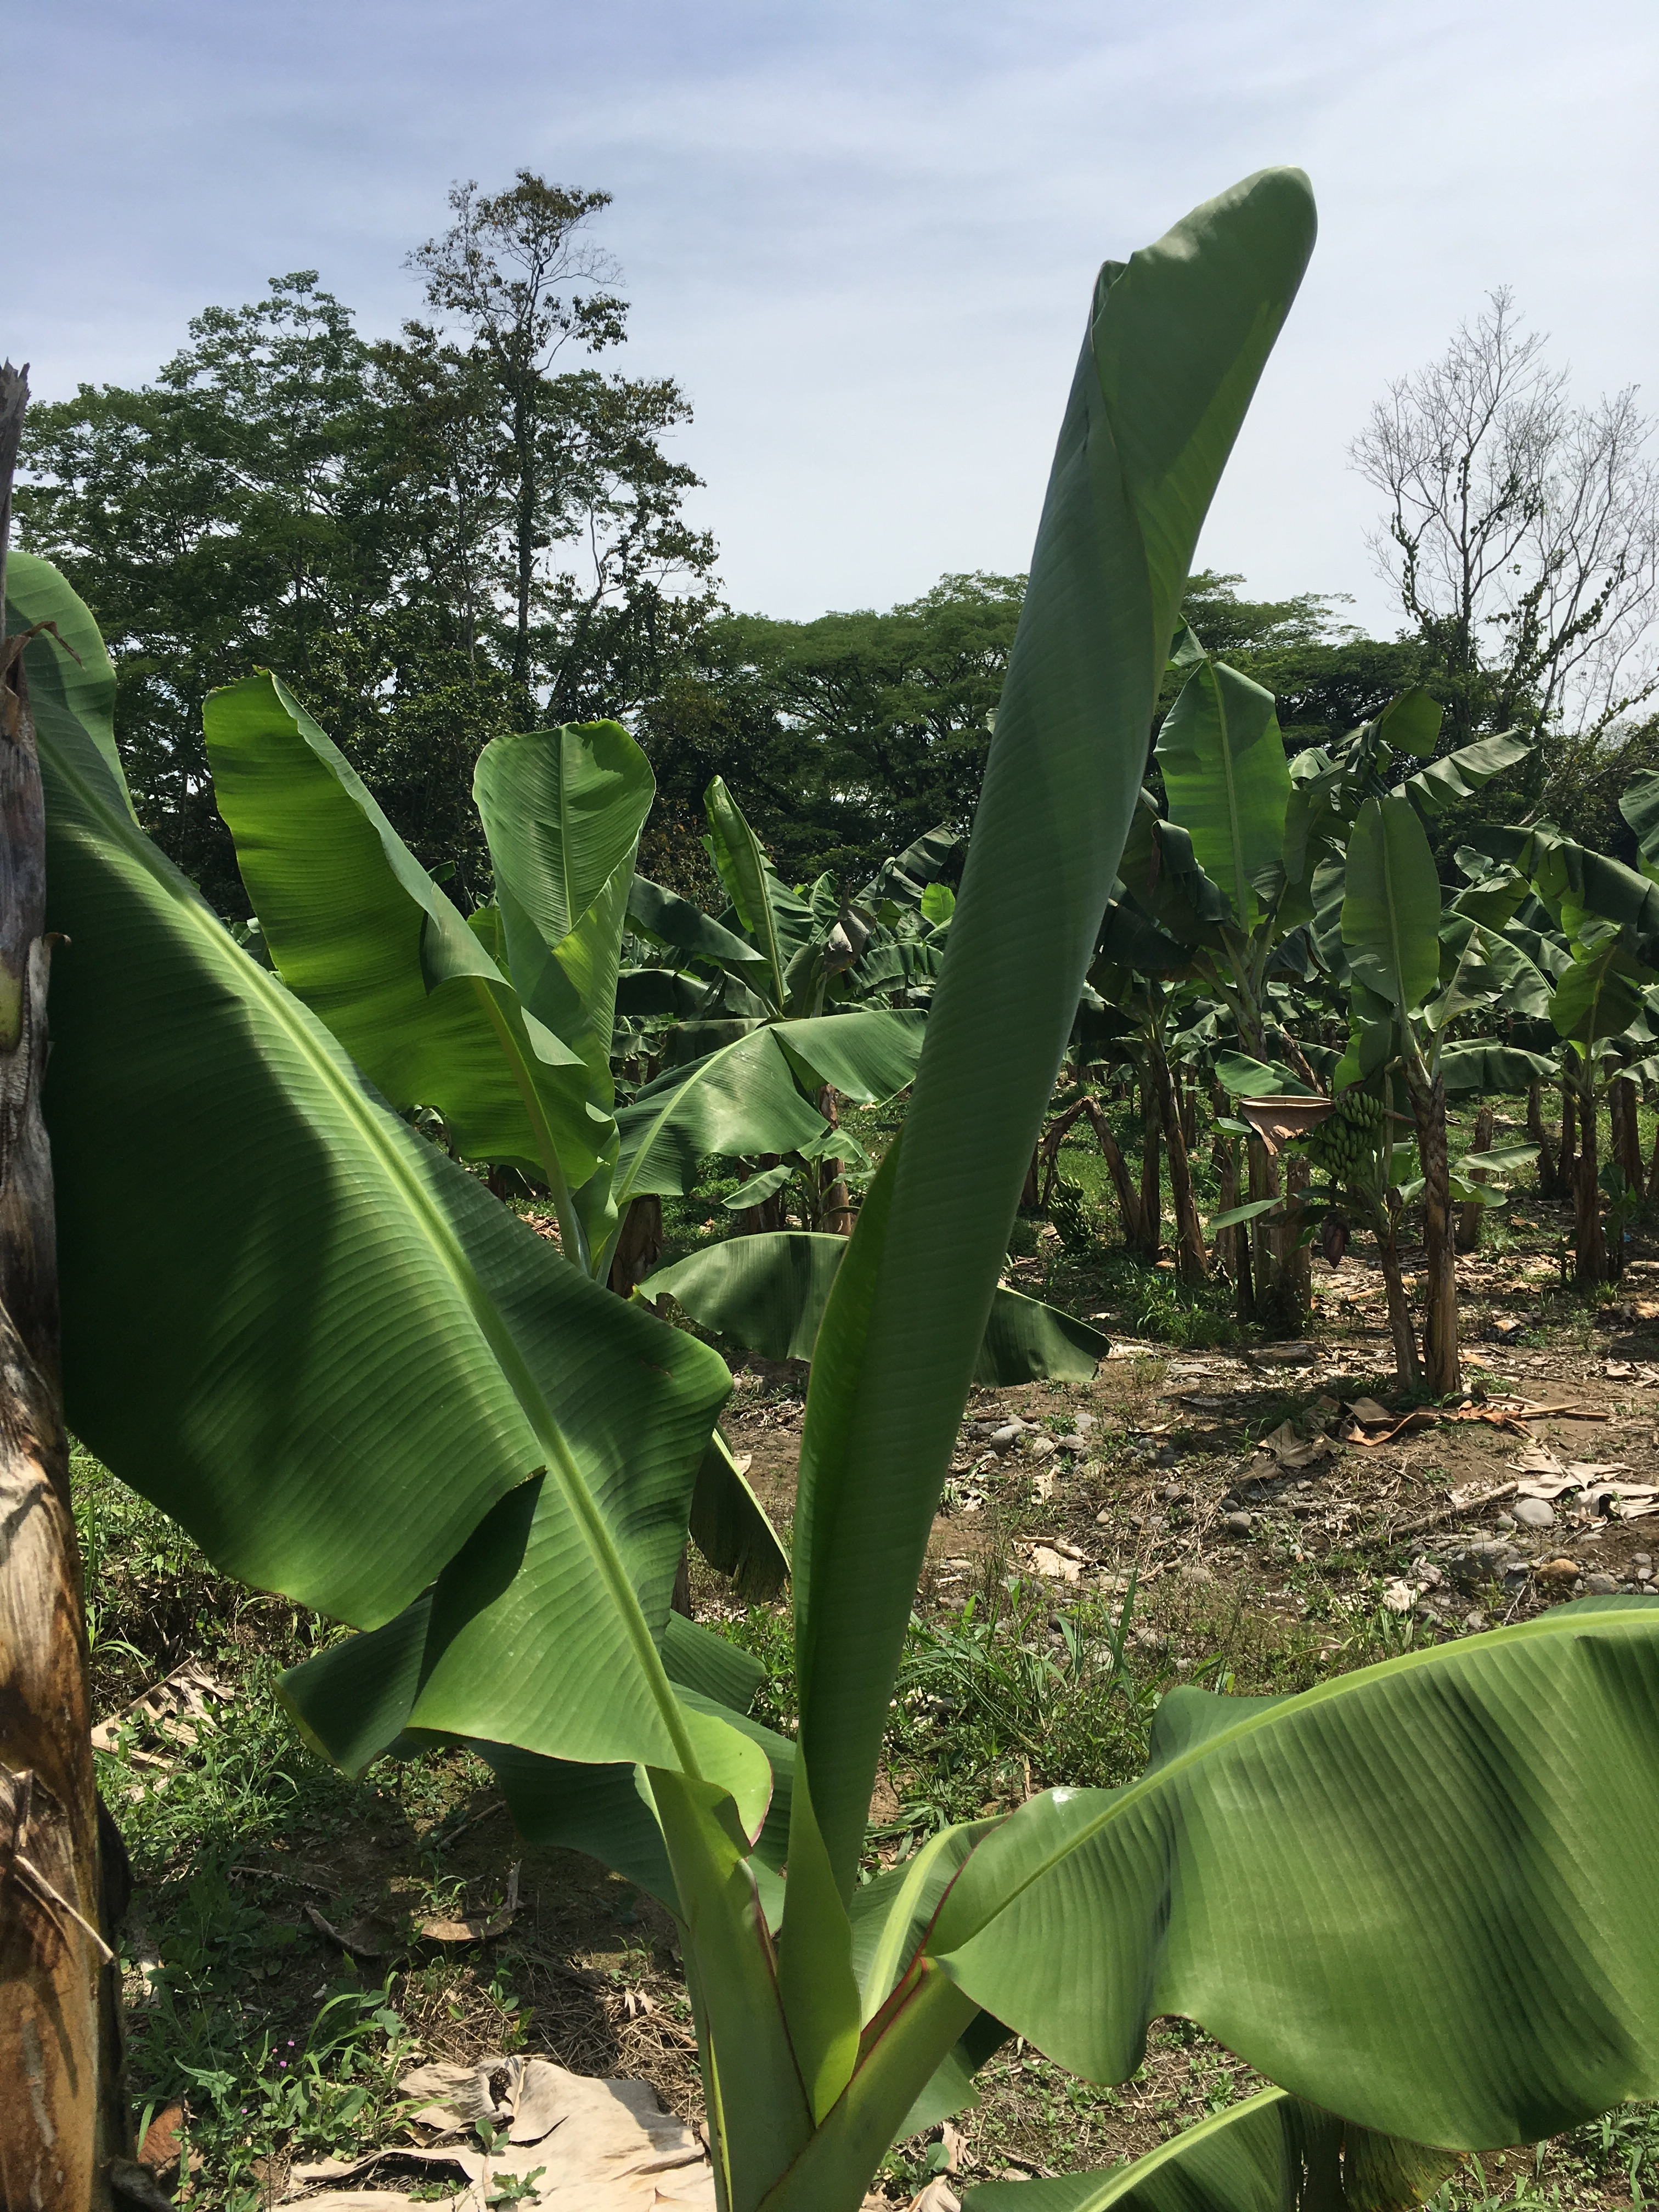candleleafs: (784, 162, 1317, 2000)
